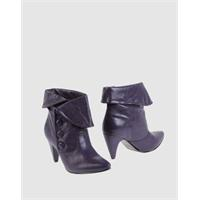shoe: (42, 88, 111, 174), (101, 82, 164, 159)
